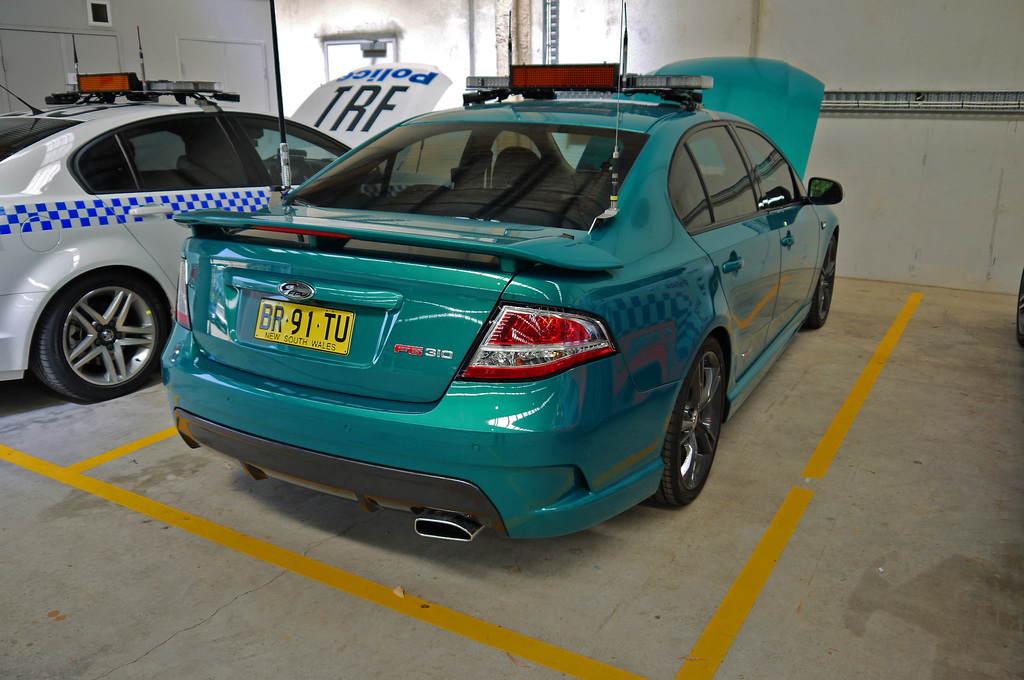Car: (162, 0, 848, 549), (0, 60, 451, 402)
